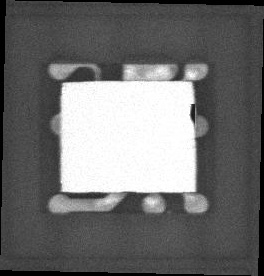DIE_BROKEN: (189, 102, 197, 123)
